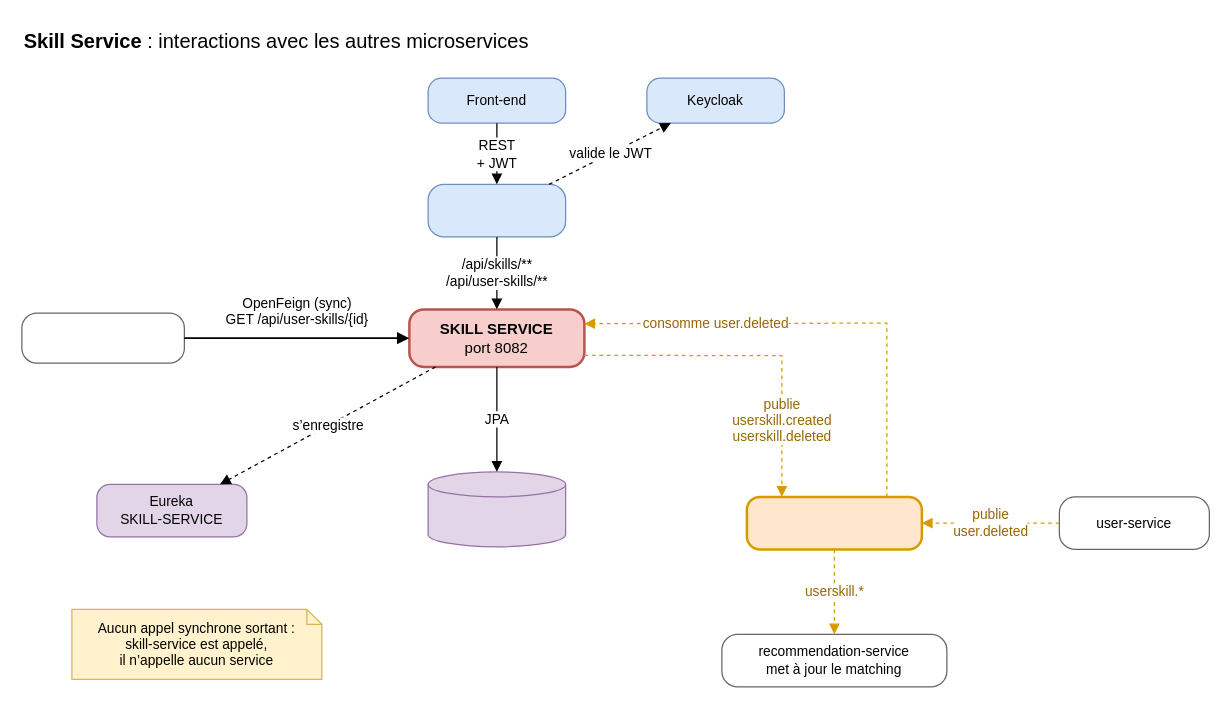
Image size: 1231x709. Some labels were removed from this diagram. The shapes that lost their labels are listed below. From the top down, each one's centre as x and y in pixels, then its label:
At point 496,210: "API Gateway port 8080".
At point 102,337: "exchange-service".
At point 496,509: "MySQL base privée".
At point 833,522: "RabbitMQ skillswap.events".
